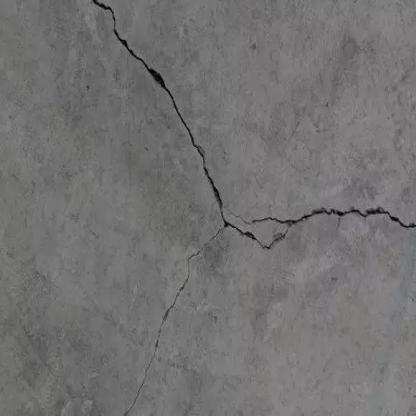branched cracks: (91, 0, 415, 415)
